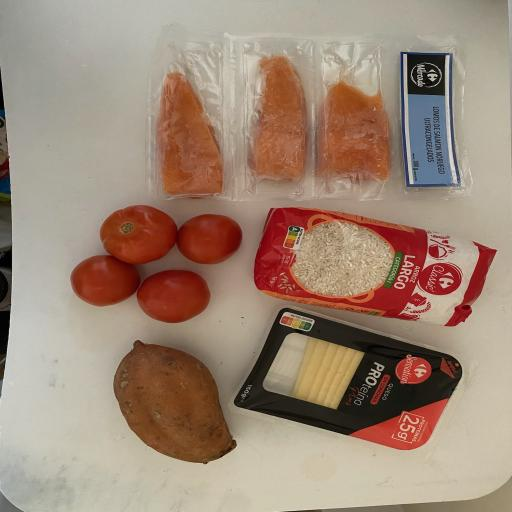cheese: (234, 302, 471, 460)
rice: (246, 202, 503, 336)
salmon: (151, 63, 228, 200), (243, 52, 317, 186), (314, 78, 396, 188)
sweet_potato: (109, 336, 243, 474)
tomato: (96, 202, 184, 268), (134, 264, 218, 328), (67, 252, 143, 309), (176, 210, 246, 268)
